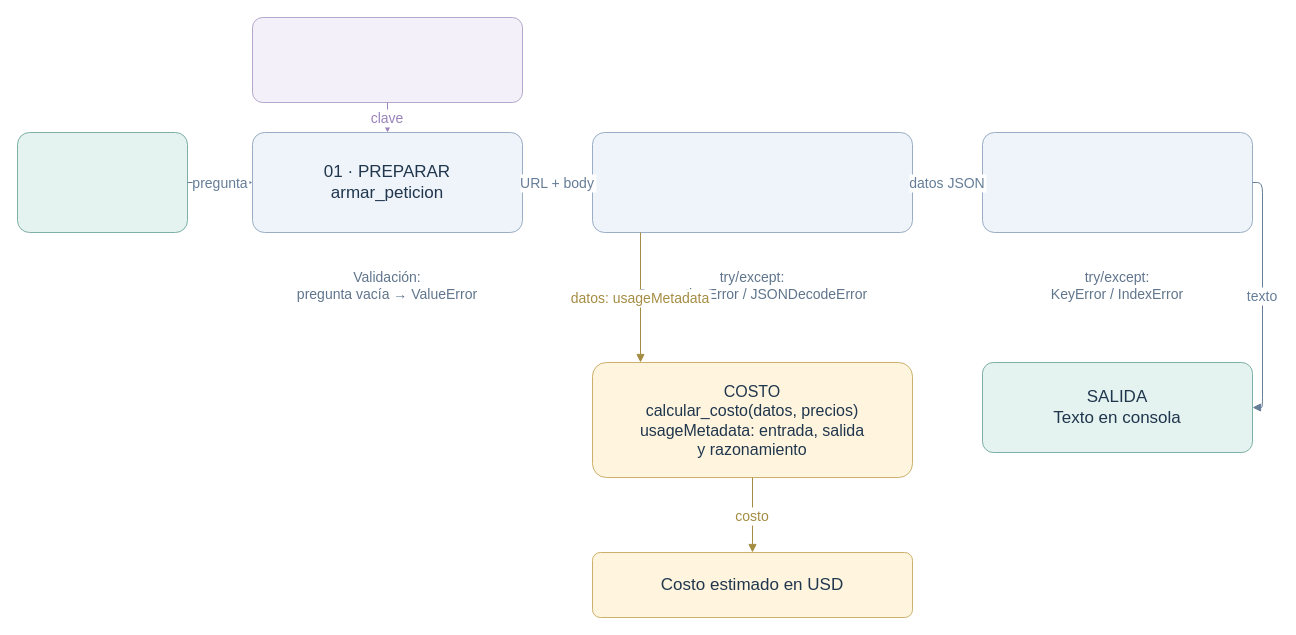
The diagram is 1296 pixels wide and 635 high, and some of its shapes have lost their labels. Here are the shapes that lost their labels. From the top down, the box of each, then its label:
(252, 16, 522, 102): CONFIGURACIÓN LOCAL .env → GEMINI_API_KEY load_dotenv() + os.getenv()
(16, 132, 188, 232): ENTRADA Pregunta
(592, 132, 912, 232): 02 · CONSULTAR enviar_peticion API de Gemini + respuesta.json()
(982, 132, 1252, 232): 03 · EXTRAER extraer_texto
